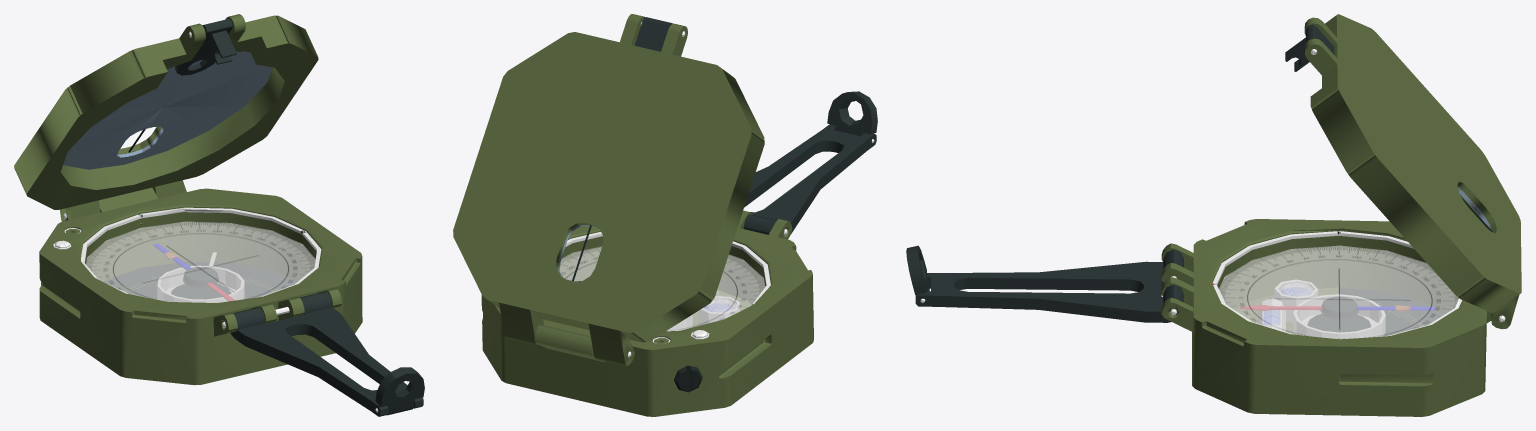
File: compass.glb
3 renders of one model, left to right at view 1: azimuth 30°, elevation 25°; view 2: azimuth 150°, elevation 25°; view 3: azimuth 270°, elevation 25°, orthographic. The views are drawn at different scales.
Parts seen in each view (by area): view 1: polySurface267_haki_0, mirror_hrom, compass_circle_steklo, polySurface64_blek_mat_0, polySurface267_blek_mat_0, compass_north_hrom, hole_hrom, polySurface267_met_gl2_0, polySurface217_blek_mat_0; view 2: mirror_hrom, polySurface267_haki_0, polySurface64_blek_mat_0, compass_circle_steklo, hole_hrom, polySurface267_met_gl2_0, compass_north_hrom, magnetic_declination_blekc_gl; view 3: polySurface267_haki_0, mirror_hrom, compass_circle_steklo, polySurface64_blek_mat_0, polySurface267_met_gl2_0, polySurface267_blek_mat_0, compass_north_hrom, hole_hrom, polySurface217_blek_mat_0, compass_needle_met_gl2, polySurface267_steklo_0.
Part boxes in pixels (x1=…): polySurface267_haki_0: x1=39, y1=187, x2=362, y2=385; mirror_hrom: x1=14, y1=14, x2=318, y2=221; compass_circle_steklo: x1=86, y1=221, x2=315, y2=302; polySurface64_blek_mat_0: x1=230, y1=291, x2=423, y2=416; polySurface267_blek_mat_0: x1=104, y1=262, x2=297, y2=299; compass_north_hrom: x1=81, y1=207, x2=321, y2=301; hole_hrom: x1=375, y1=367, x2=424, y2=415; polySurface267_met_gl2_0: x1=157, y1=252, x2=244, y2=302; polySurface217_blek_mat_0: x1=183, y1=267, x2=218, y2=286; mirror_hrom: x1=453, y1=14, x2=764, y2=366; polySurface267_haki_0: x1=481, y1=210, x2=813, y2=416; polySurface64_blek_mat_0: x1=743, y1=124, x2=876, y2=234; compass_circle_steklo: x1=560, y1=246, x2=765, y2=331; hole_hrom: x1=827, y1=91, x2=877, y2=143; polySurface267_met_gl2_0: x1=667, y1=292, x2=739, y2=330; compass_north_hrom: x1=565, y1=232, x2=770, y2=331; magnetic_declination_blekc_gl: x1=674, y1=365, x2=702, y2=392; polySurface267_haki_0: x1=1161, y1=219, x2=1491, y2=416; mirror_hrom: x1=1285, y1=14, x2=1521, y2=329; compass_circle_steklo: x1=1219, y1=245, x2=1458, y2=339; polySurface64_blek_mat_0: x1=915, y1=249, x2=1183, y2=322; polySurface267_met_gl2_0: x1=1258, y1=280, x2=1385, y2=338; polySurface267_blek_mat_0: x1=1307, y1=287, x2=1443, y2=335; compass_north_hrom: x1=1212, y1=231, x2=1462, y2=339; hole_hrom: x1=906, y1=245, x2=929, y2=302; polySurface217_blek_mat_0: x1=1321, y1=297, x2=1358, y2=318; compass_needle_met_gl2: x1=1240, y1=305, x2=1434, y2=311; polySurface267_steklo_0: x1=1264, y1=282, x2=1313, y2=324.
Size of the model in its own units: 4.12 by 5.06 by 8.55.
Materials: 12 (3 with a texture image).
